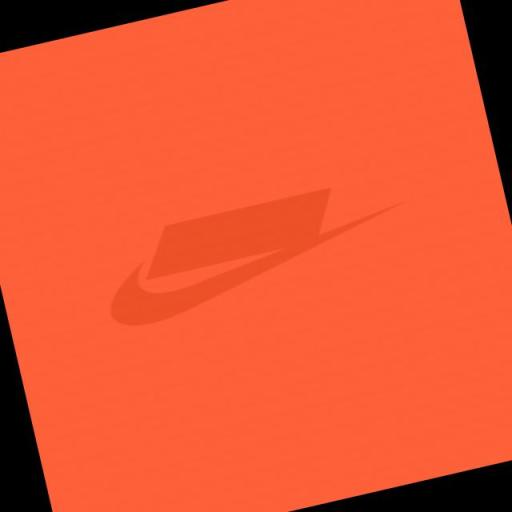Nike: (90, 199, 416, 339)
